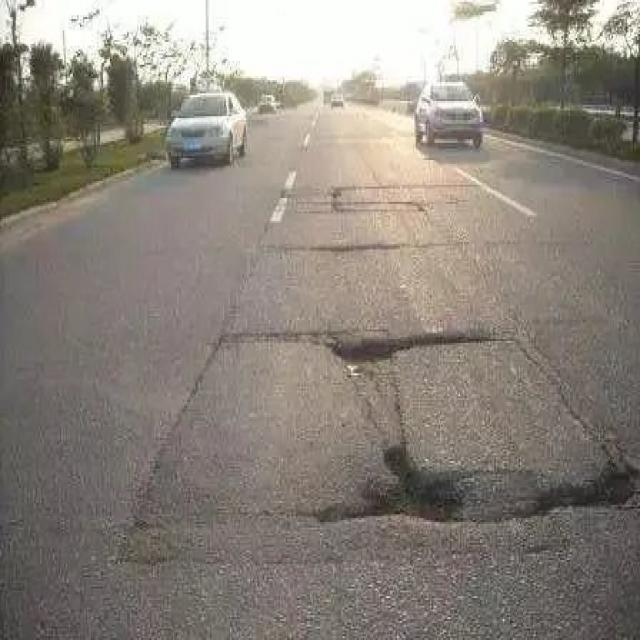Pothole: (296, 442, 638, 533), (277, 330, 514, 370), (300, 179, 453, 219), (294, 234, 406, 257)
